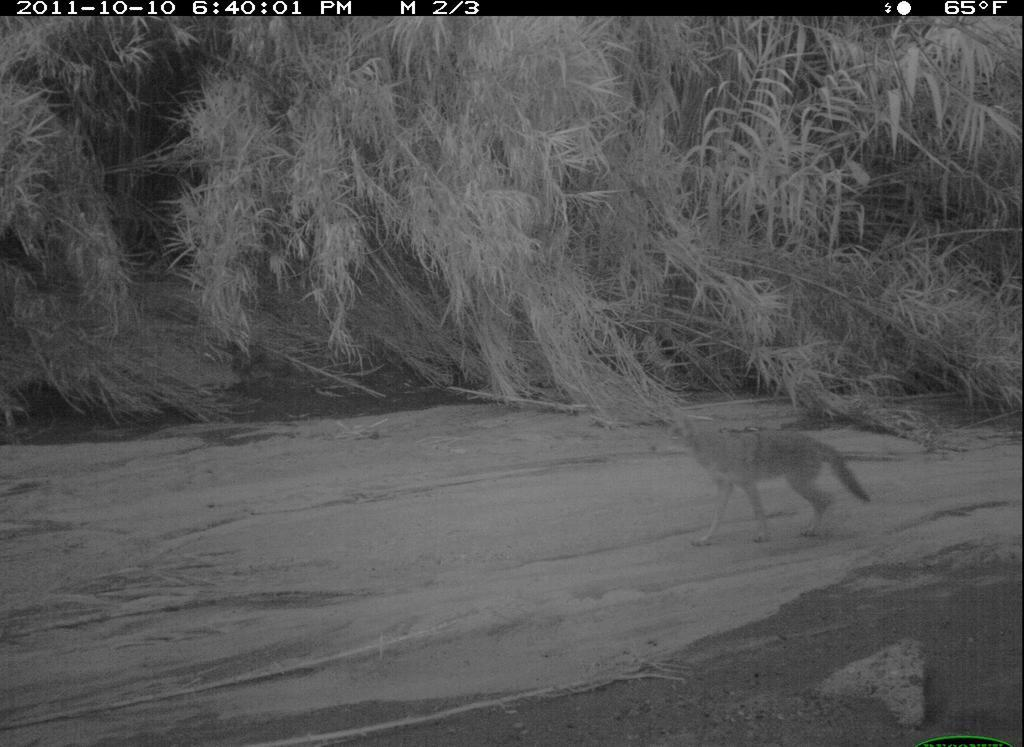coyote: (629, 397, 876, 546)
